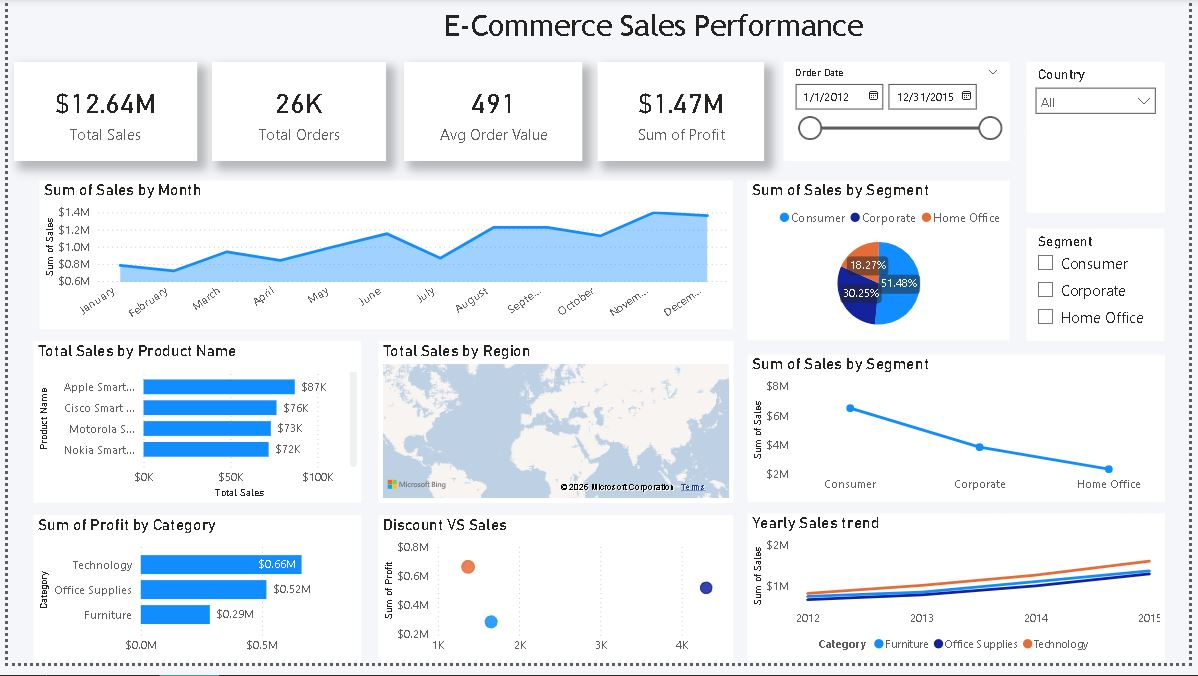

This screenshot's page, from the dashboard's own definition file:
{"tool":"powerbi","page":{"name":"Page 1","canvas":[1280,720],"ordinal":0},"visuals":[{"type":"card","fields":{"Values":["global_superstore_2016.Total Sales"]},"box":[6.5,68.3,198.4,107.4],"z":0},{"type":"card","fields":{"Values":["global_superstore_2016.Avg Order Value"]},"box":[429.4,68.3,193.6,107.4],"z":1000},{"type":"card","fields":{"Values":["global_superstore_2016.Total Orders"]},"box":[221.2,68.3,188.7,107.4],"z":2000},{"type":"card","fields":{"Values":["Sum(global_superstore_2016.Profit)"]},"box":[639.2,68.3,180.5,107.4],"z":3000},{"type":"areaChart","fields":{"Category":["global_superstore_2016.Order Date.Variation.Date Hierarchy.Month"],"Y":["Sum(global_superstore_2016.Sales)"]},"box":[34,197.4,752,161.6],"z":4000},{"type":"clusteredBarChart","fields":{"Category":["global_superstore_2016.Product Name"],"Y":["global_superstore_2016.Total Sales"]},"box":[27.2,370.9,355.6,175.2],"z":5000},{"type":"filledMap","fields":{"Series":["global_superstore_2016.Region"]},"box":[401.5,370.9,384.5,175.2],"z":6000},{"type":"pieChart","fields":{"Y":["Sum(global_superstore_2016.Sales)"],"Series":["global_superstore_2016.Segment"]},"box":[801.4,197.4,284.1,173.5],"z":7000},{"type":"clusteredBarChart","fields":{"Y":["Sum(global_superstore_2016.Profit)"],"Category":["global_superstore_2016.Category"]},"box":[27.2,559.8,355.6,159.9],"z":7001},{"type":"textbox","box":[191.9,0,1024.7,68.3],"z":7003},{"type":"lineChart","fields":{"Y":["Sum(global_superstore_2016.Sales)"],"Category":["global_superstore_2016.Segment"]},"box":[801.4,386.2,452.6,159.9],"z":7004},{"type":"scatterChart","title":"Discount VS Sales","fields":{"X":["Sum(global_superstore_2016.Discount)"],"Y":["Sum(global_superstore_2016.Profit)"],"Size":["Sum(global_superstore_2016.Sales)"],"Series":["global_superstore_2016.Category"]},"box":[401.5,559.8,384.5,159.9],"z":7005},{"type":"lineChart","title":"Yearly Sales trend","fields":{"Category":["global_superstore_2016.Order Date.Variation.Date Hierarchy.Year"],"Y":["Sum(global_superstore_2016.Sales)"],"Series":["global_superstore_2016.Category"]},"box":[801.4,558.1,452.6,159.9],"z":7006},{"type":"slicer","title":"Region","fields":{"Values":["global_superstore_2016.Country"]},"box":[1104.2,68.1,149.7,163.3],"z":7007},{"type":"slicer","fields":{"Values":["global_superstore_2016.Segment"]},"box":[1104.4,248.9,149.6,122],"z":7008},{"type":"slicer","fields":{"Values":["global_superstore_2016.Order Date"]},"box":[840.5,68.1,245,107.2],"z":7009}]}

Visuals, with their boxes in screenshot pixels (x1, y1, x2, y2), scaled from the page's 1280x720 canvas onto the 1198x676 screenshot:
card - global_superstore_2016.Total Sales: <bbox>6, 64, 192, 165</bbox>
card - global_superstore_2016.Avg Order Value: <bbox>402, 64, 583, 165</bbox>
card - global_superstore_2016.Total Orders: <bbox>207, 64, 384, 165</bbox>
card - Sum(global_superstore_2016.Profit): <bbox>598, 64, 767, 165</bbox>
areaChart - global_superstore_2016.Order Date.Variation.Date Hierarchy.Month x Sum(global_superstore_2016.Sales): <bbox>32, 185, 736, 337</bbox>
clusteredBarChart - global_superstore_2016.Product Name x global_superstore_2016.Total Sales: <bbox>25, 348, 358, 513</bbox>
filledMap - global_superstore_2016.Region: <bbox>376, 348, 736, 513</bbox>
pieChart - Sum(global_superstore_2016.Sales) x global_superstore_2016.Segment: <bbox>750, 185, 1016, 348</bbox>
clusteredBarChart - Sum(global_superstore_2016.Profit) x global_superstore_2016.Category: <bbox>25, 526, 358, 675</bbox>
textbox: <bbox>180, 0, 1139, 64</bbox>
lineChart - Sum(global_superstore_2016.Sales) x global_superstore_2016.Segment: <bbox>750, 363, 1174, 513</bbox>
"Discount VS Sales" scatterChart: <bbox>376, 526, 736, 675</bbox>
"Yearly Sales trend" lineChart: <bbox>750, 524, 1174, 674</bbox>
"Region" slicer: <bbox>1033, 64, 1174, 217</bbox>
slicer - global_superstore_2016.Segment: <bbox>1034, 234, 1174, 348</bbox>
slicer - global_superstore_2016.Order Date: <bbox>787, 64, 1016, 165</bbox>
